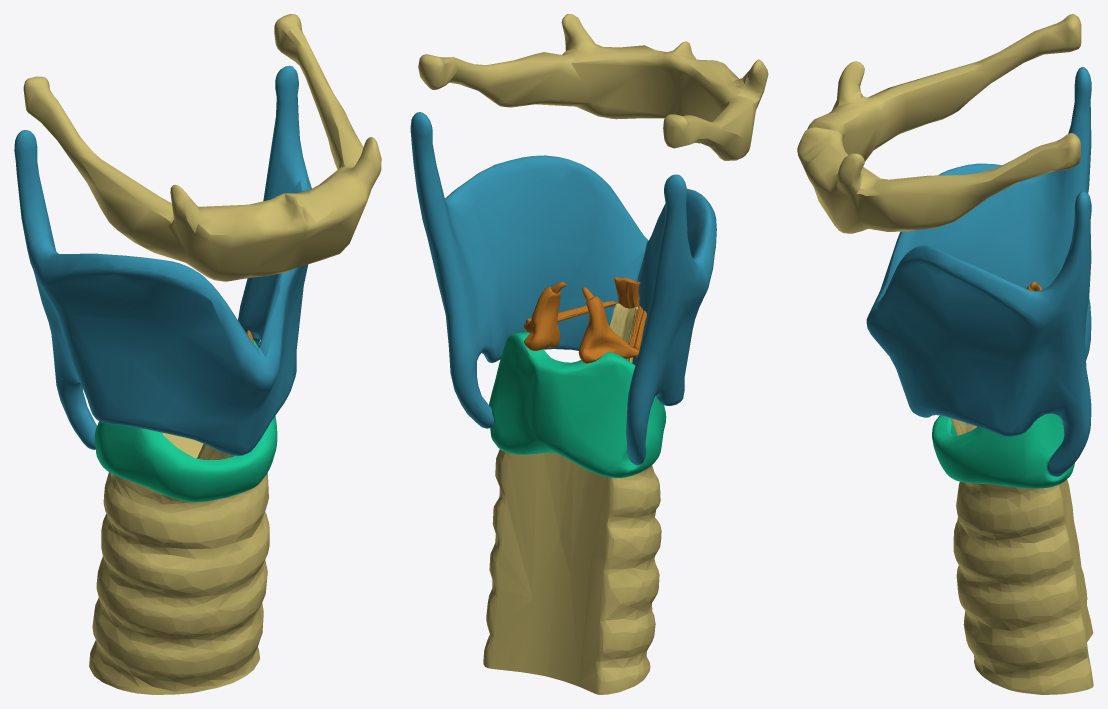
File: fbx_frame_0006.obj
3 renders of one model, left to right at view 1: azimuth 30°, elevation 25°; view 2: azimuth 150°, elevation 25°; view 3: azimuth 270°, elevation 25°, orthographic. The views are drawn at different scales.
Visible parts, largest first — view 1: maya2sketchfab.010, maya2sketchfab.001, maya2sketchfab.011, maya2sketchfab.005; view 2: maya2sketchfab.010, maya2sketchfab.001, maya2sketchfab.011, maya2sketchfab.005, maya2sketchfab.004, maya2sketchfab.006, maya2sketchfab.007; view 3: maya2sketchfab.010, maya2sketchfab.001, maya2sketchfab.011, maya2sketchfab.005.
Boxes of the visible parts, box(x1,y1,x2,y2) form: maya2sketchfab.010: box(14, 65, 311, 455); maya2sketchfab.001: box(89, 432, 269, 694); maya2sketchfab.011: box(23, 14, 381, 281); maya2sketchfab.005: box(94, 339, 277, 502); maya2sketchfab.010: box(410, 112, 716, 465); maya2sketchfab.001: box(483, 303, 661, 694); maya2sketchfab.011: box(418, 14, 768, 160); maya2sketchfab.005: box(489, 332, 666, 477); maya2sketchfab.004: box(578, 287, 639, 363); maya2sketchfab.006: box(524, 281, 566, 350); maya2sketchfab.007: box(614, 277, 640, 308); maya2sketchfab.010: box(866, 67, 1091, 476); maya2sketchfab.001: box(950, 418, 1093, 694); maya2sketchfab.011: box(797, 14, 1081, 233); maya2sketchfab.005: box(932, 413, 1074, 488).
Bounding box in the file's own units: 38.66 × 78.9 × 36.35.
